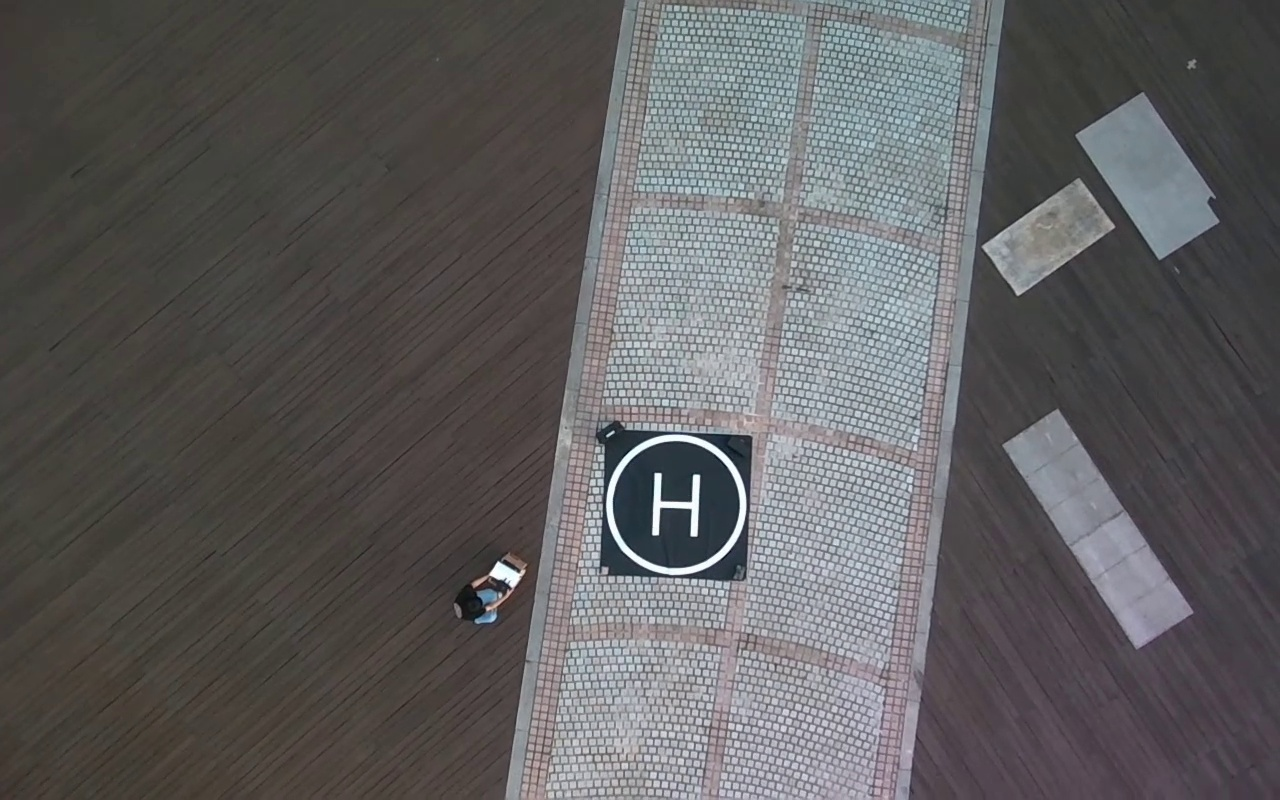H: (651, 472, 701, 539)
heliport: (605, 433, 748, 576)
